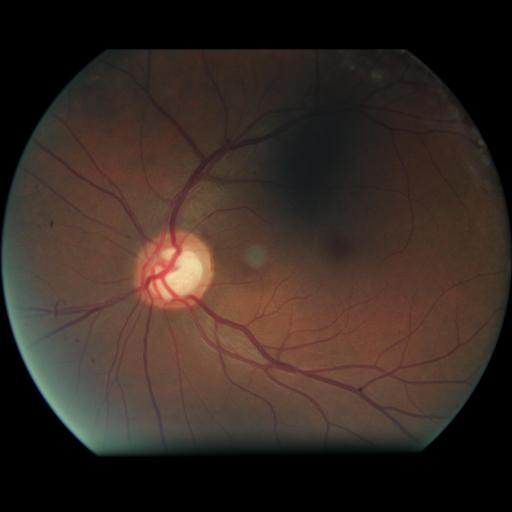Optic Cup: (148, 248, 204, 299)
Optic Disc: (134, 231, 213, 310)
